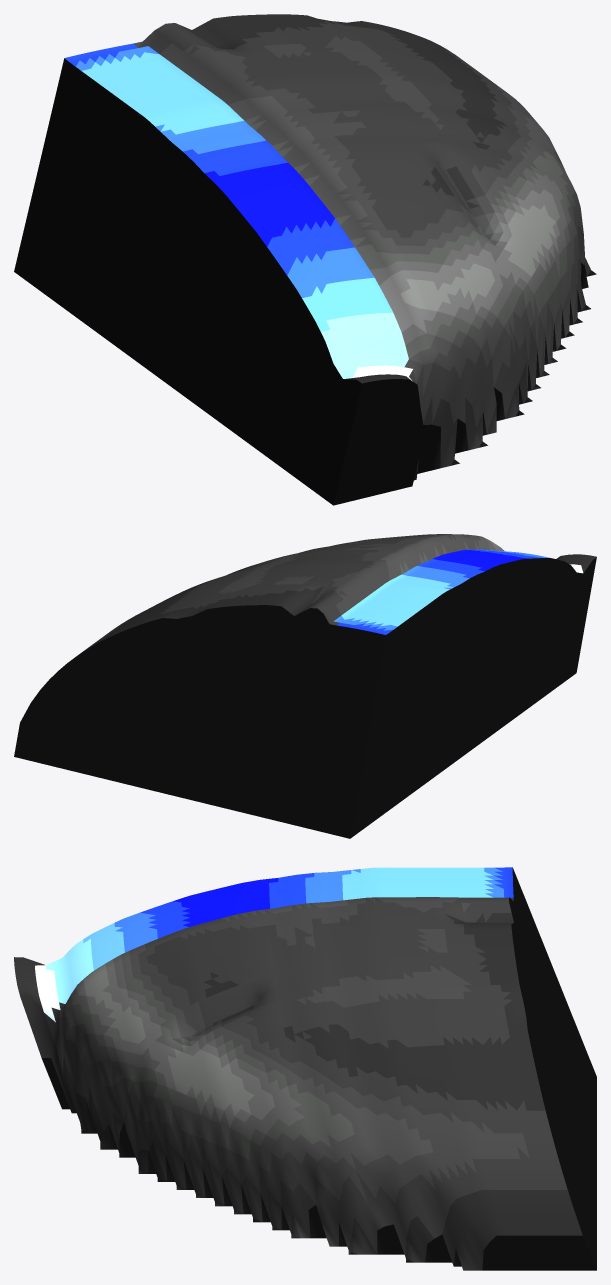
The model's file is time_capsule_132.glb.
3 renders of one model, top to bottom at view 1: azimuth 30°, elevation 25°; view 2: azimuth 150°, elevation 25°; view 3: azimuth 270°, elevation 25°, orthographic. The views are drawn at different scales.
Visible parts, largest first — view 1: time_capsule_132; view 2: time_capsule_132; view 3: time_capsule_132.
Part boxes in pixels (left/top/right/bottom): time_capsule_132: left=14, top=14, right=596, bottom=505; time_capsule_132: left=14, top=534, right=596, bottom=838; time_capsule_132: left=14, top=867, right=596, bottom=1270.
Bounding box in the file's own units: 24 × 12.72 × 30.52.
